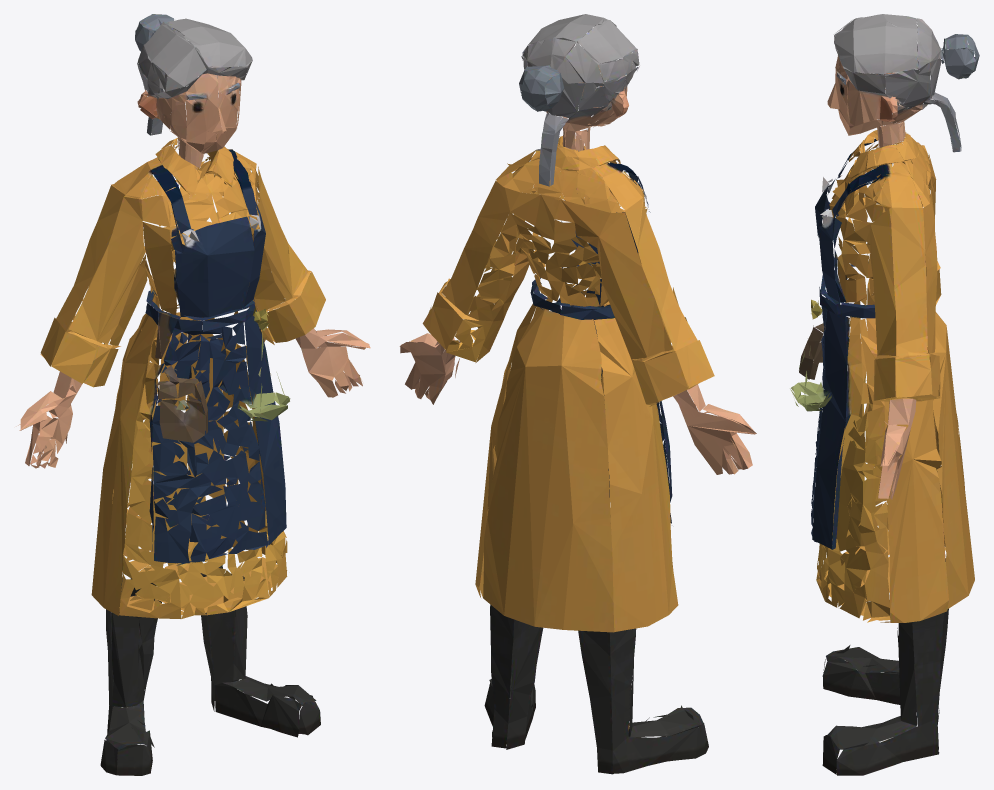
File: habitant.glb
The picture shows the model from 3 angles, left to right: view 1: azimuth 30°, elevation 25°; view 2: azimuth 150°, elevation 25°; view 3: azimuth 270°, elevation 25°; orthographic projection.
Visible parts, largest first — view 1: world; view 2: world; view 3: world.
Boxes of the visible parts, <box> form: world: <box>16,14,370,775</box>; world: <box>399,14,756,774</box>; world: <box>790,14,979,775</box>.
Size of the model in its own units: 0.5242 by 1 by 0.2452.
1 material, 1 textured.
